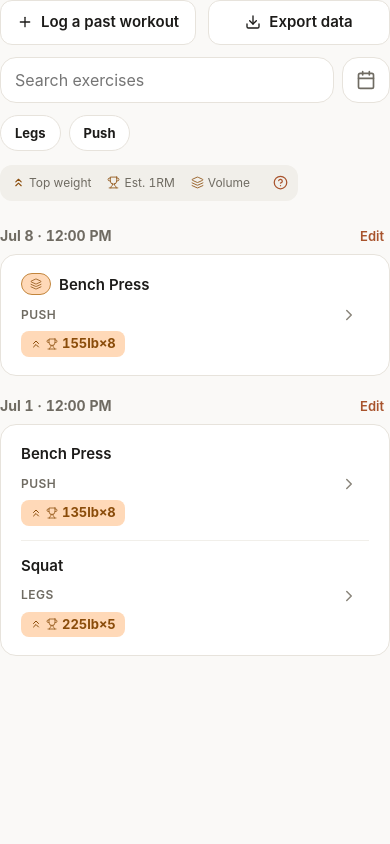
Test: HistoryTab PR markers, search/tag filtering, and click-to-filter › clicking an exercise name, then "View this exercise’s history", filters history to just that exercise
This screenshot has width=390, height=844.
Expected: the button "Push" is shown, x1=69 y1=115 x2=130 y2=151
Step 1. Click the button with aria-label "View options for Bench Press" → (104, 284), box x1=21 y1=273 x2=321 y2=296
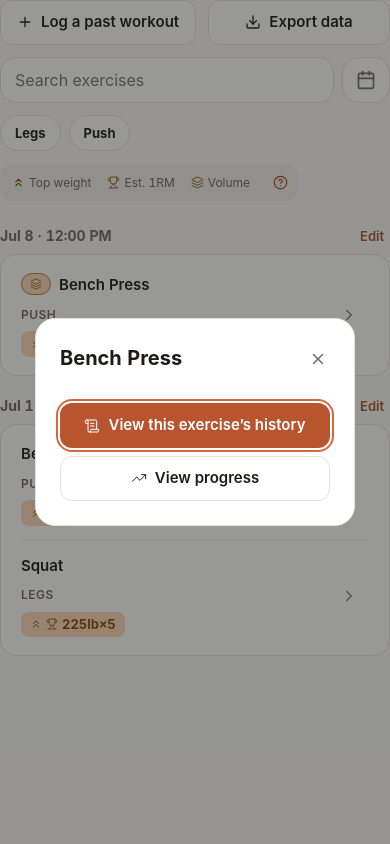
Step 2. Click the button "View this exercise’s history" → (195, 426), box x1=60 y1=403 x2=330 y2=448
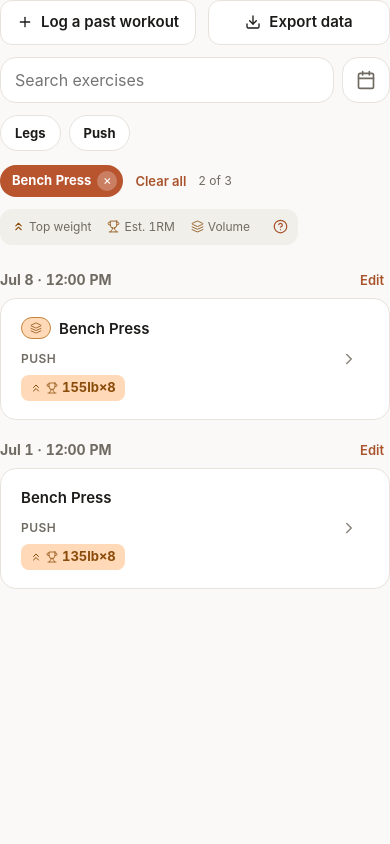
Expected: the button named "Stop filtering to Bench Press" is shown, x1=97 y1=171 x2=117 y2=191
Expected: the text "Bench Press" is shown 3 times, x1=0 y1=165 x2=123 y2=197; x1=59 y1=318 x2=150 y2=340; x1=21 y1=487 x2=112 y2=510
Expected: the button "Squat" is gone
